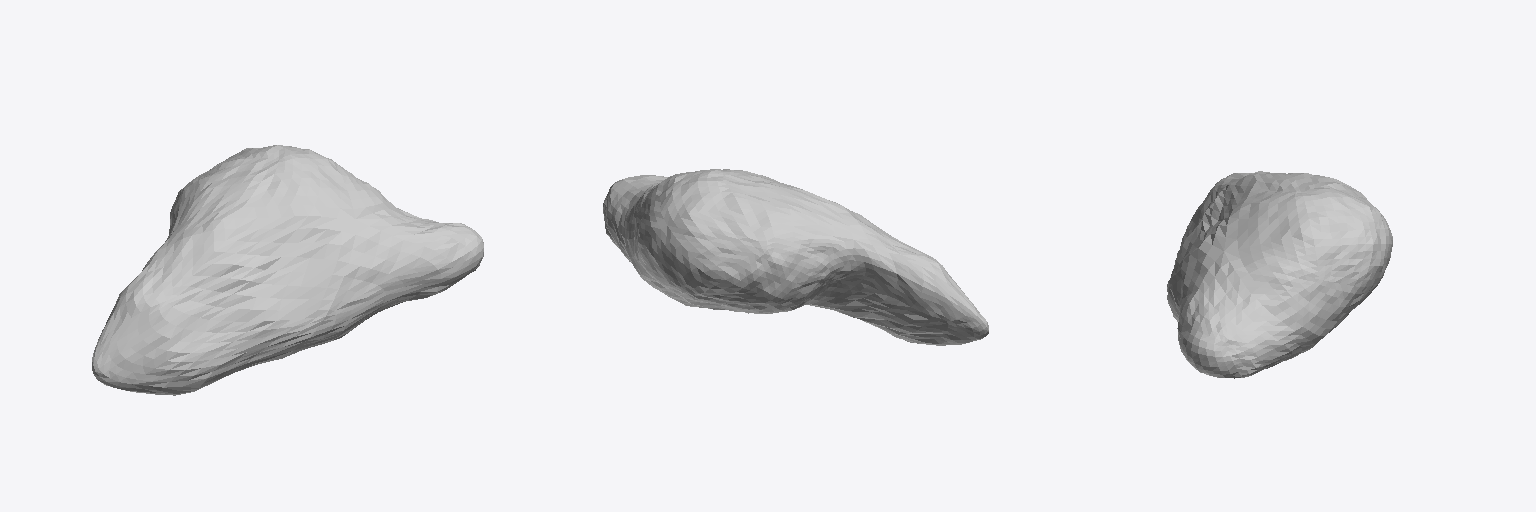
Rendered from rock1.obj.
3 renders of one model, left to right at view 1: azimuth 30°, elevation 25°; view 2: azimuth 150°, elevation 25°; view 3: azimuth 270°, elevation 25°, orthographic.
Parts seen in each view (by area): view 1: rock; view 2: rock; view 3: rock.
Part boxes in pixels (x1,y1,x2,y2): rock: (92,145,483,395); rock: (603,169,988,345); rock: (1167,171,1392,378).
Size of the model in its own units: 2.93 by 1.2 by 1.49.